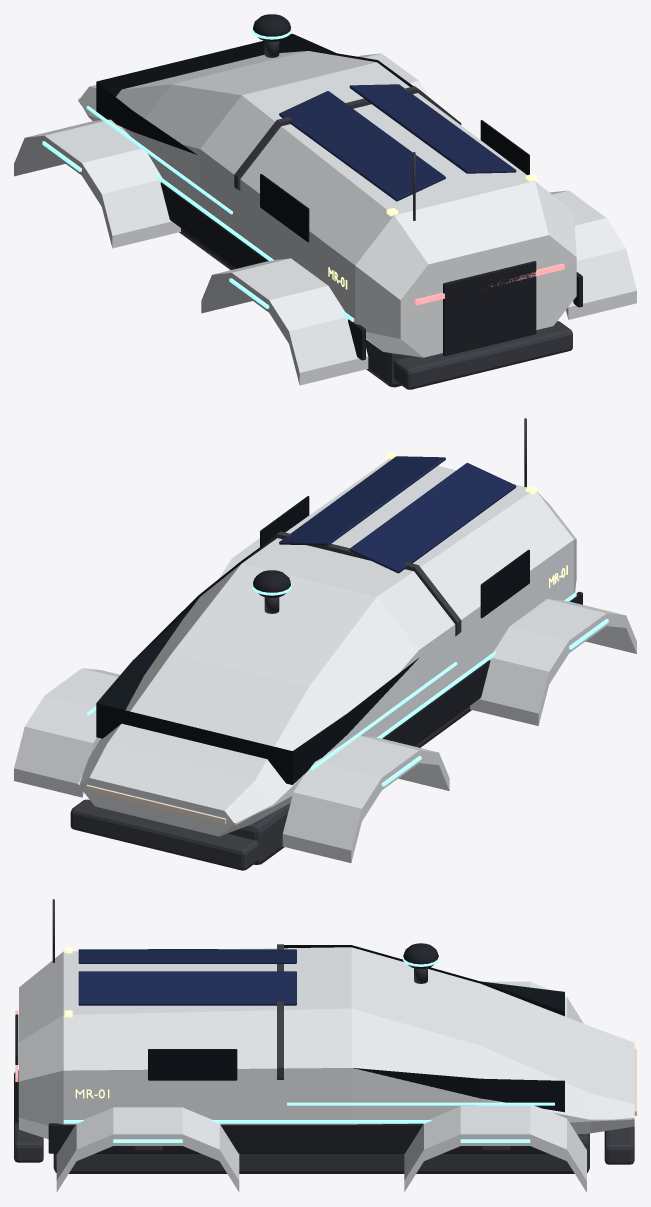
File: RoverBody.fbx
3 views of the same model, one above another, from view 1: azimuth 30°, elevation 25°; view 2: azimuth 150°, elevation 25°; view 3: azimuth 270°, elevation 25° (orthographic). The views are drawn at different scales.
Visible parts, largest first — view 1: RoverBody mesh; view 2: RoverBody mesh; view 3: RoverBody mesh.
Part boxes in pixels (<box>): RoverBody mesh: <box>14,14,636,389</box>; RoverBody mesh: <box>14,418,636,870</box>; RoverBody mesh: <box>14,899,636,1192</box>.
Size of the model in its own units: 3.69 by 2.44 by 6.28.
